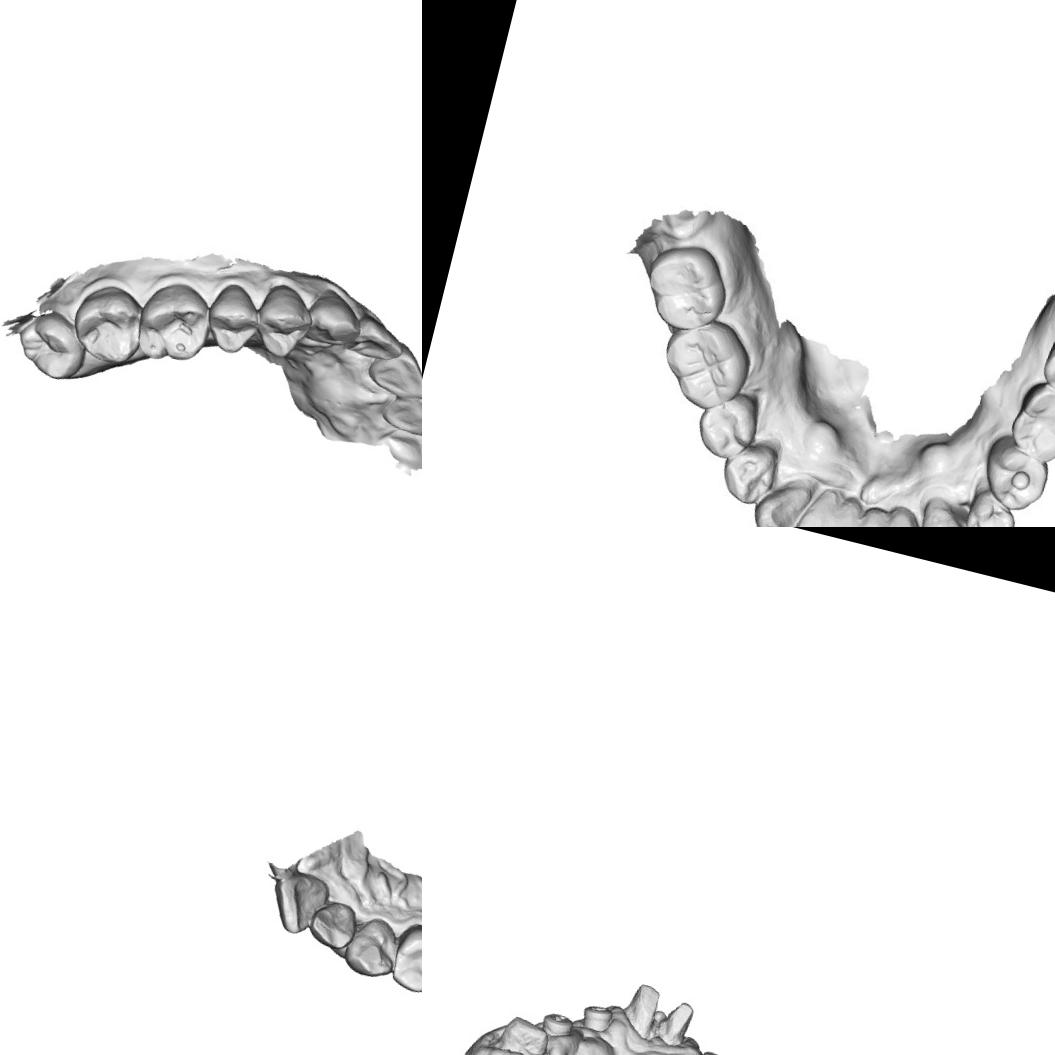canine: (300, 284, 368, 358), (339, 910, 405, 982), (746, 473, 818, 527), (910, 495, 974, 527)
crown: (615, 976, 665, 1043), (651, 994, 699, 1052)
implant: (574, 996, 616, 1038), (535, 1008, 576, 1042), (693, 1045, 733, 1055)
incisor: (263, 864, 334, 940), (361, 335, 422, 405), (344, 309, 410, 369), (304, 895, 363, 953), (778, 481, 845, 527), (376, 383, 422, 441), (375, 421, 422, 473), (816, 497, 867, 527), (842, 504, 904, 527), (873, 505, 936, 527)
molar: (128, 272, 218, 371), (637, 239, 730, 334), (656, 321, 752, 408), (63, 278, 152, 370), (8, 301, 92, 386), (1008, 377, 1055, 464)
premolar: (246, 278, 319, 364), (196, 276, 268, 360), (694, 386, 769, 460), (983, 438, 1052, 513), (719, 435, 785, 508), (957, 479, 1023, 527), (384, 918, 422, 998)
